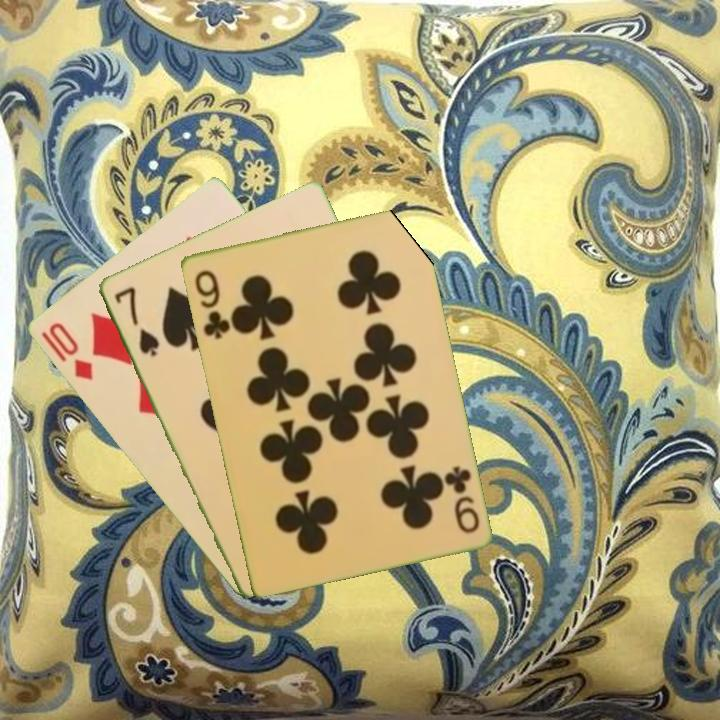10d: (37, 318, 96, 384)
7s: (110, 283, 162, 359)
9c: (190, 266, 233, 342), (440, 462, 482, 536)
